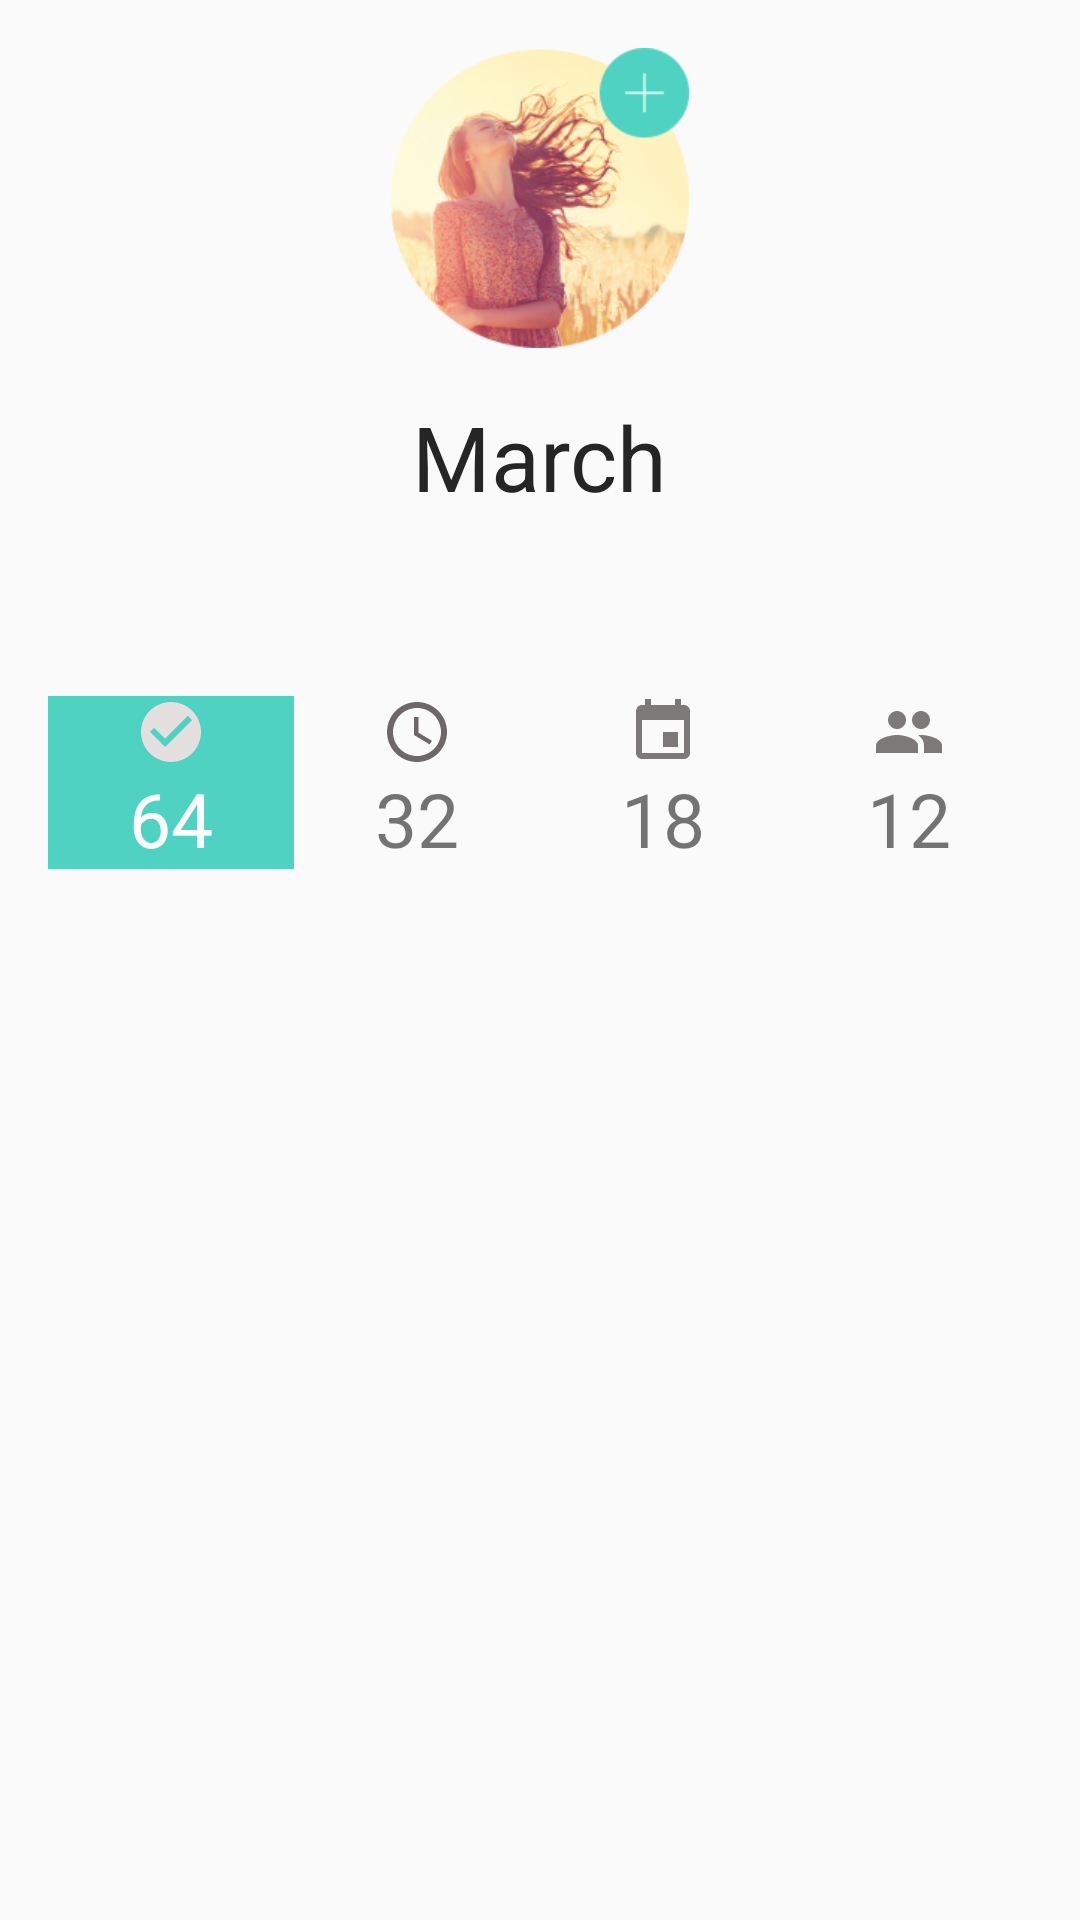

Named icons in this screenshot (1080x1920) and their centers, point (x, y):
access time: point (417, 732)
check circle: point (171, 732)
event: point (663, 729)
